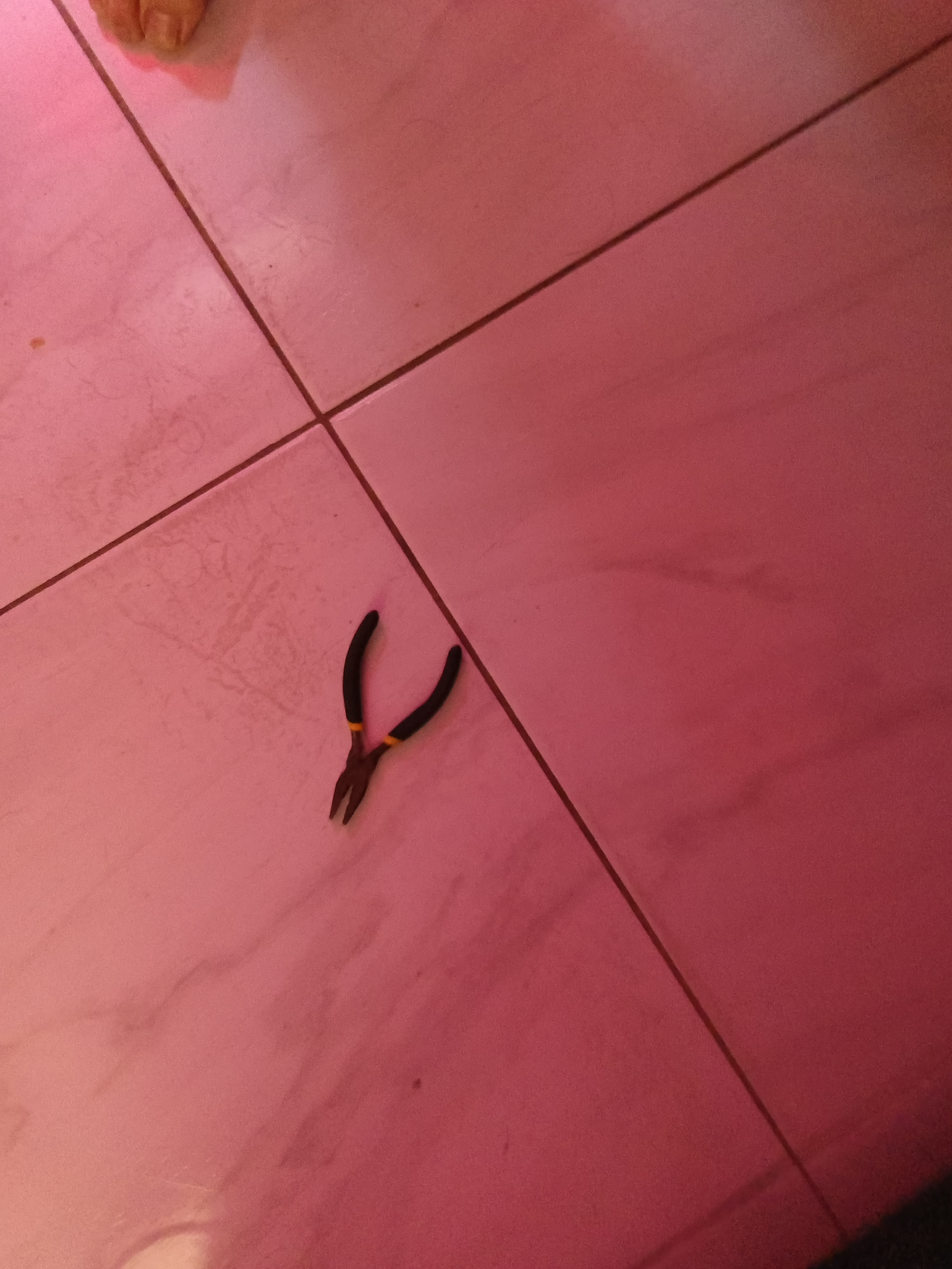Pinzas: (331, 611, 463, 824)
